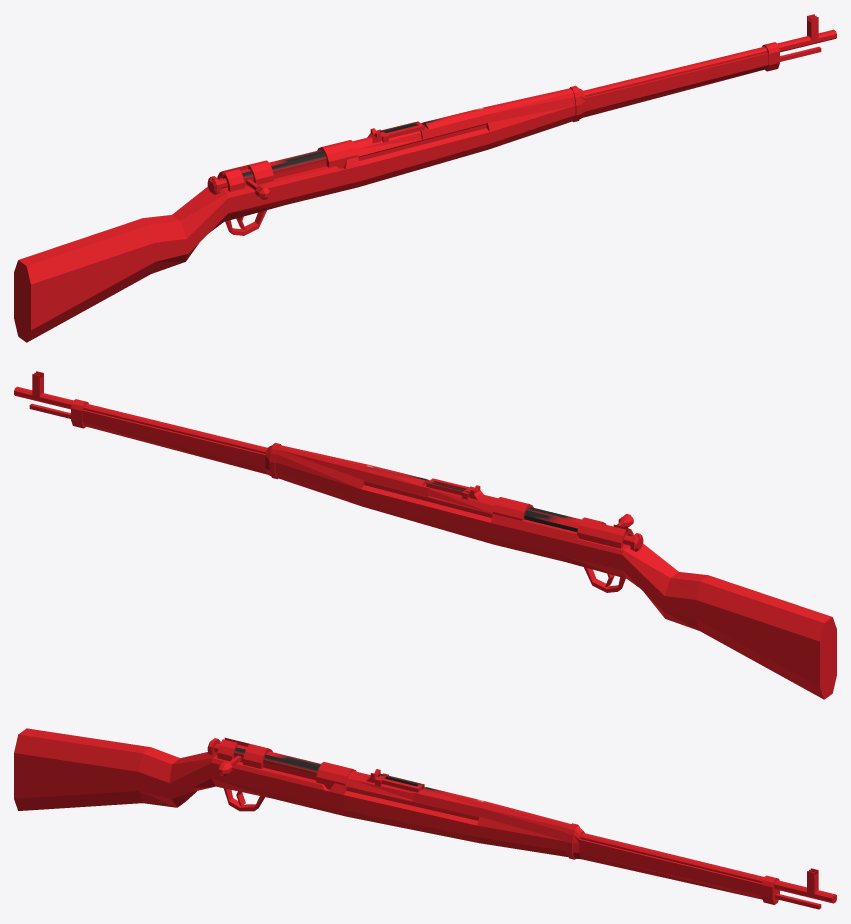
File: ModelType38.obj
The picture shows the model from 3 angles, top to bottom: view 1: azimuth 30°, elevation 25°; view 2: azimuth 150°, elevation 25°; view 3: azimuth 330°, elevation 25°; orthographic projection.
Parts seen in each view (by area): view 1: gunModel, slideModel; view 2: gunModel, slideModel; view 3: gunModel, slideModel.
Boxes of the visible parts, box(x1,y1,x2,y2) form: gunModel: box(14, 14, 836, 342); slideModel: box(207, 150, 326, 199); gunModel: box(14, 371, 836, 699); slideModel: box(524, 507, 643, 551); gunModel: box(14, 728, 836, 909); slideModel: box(207, 738, 320, 780).
Size of the model in its own units: 55.5 by 8.5 by 3.75.
